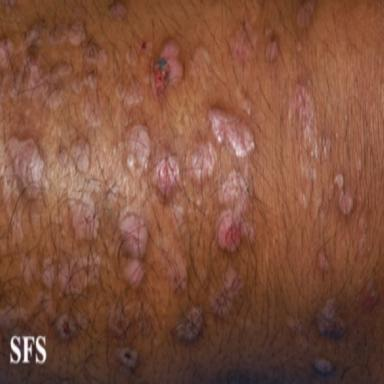Epidermolysis-Bullosa-Pruriginosa: (11, 24, 71, 110), (217, 170, 254, 251), (7, 137, 44, 199), (209, 109, 254, 157), (291, 84, 318, 157), (151, 40, 183, 97), (210, 266, 243, 319), (58, 256, 99, 294), (70, 194, 99, 239), (229, 21, 257, 66), (120, 214, 148, 258), (317, 299, 345, 339), (127, 125, 150, 170), (175, 307, 203, 342), (156, 155, 179, 197), (192, 142, 215, 181), (115, 80, 143, 110), (334, 174, 353, 215), (83, 90, 102, 128), (168, 255, 187, 292), (71, 138, 89, 173), (0, 307, 28, 329), (108, 306, 128, 336), (56, 314, 75, 340), (126, 259, 143, 287), (297, 0, 314, 28), (84, 44, 107, 64), (20, 256, 35, 286), (68, 23, 85, 47), (118, 348, 137, 369), (49, 24, 68, 45), (42, 258, 55, 288), (0, 39, 13, 68), (109, 3, 127, 19), (314, 359, 332, 375), (265, 40, 278, 61), (39, 292, 53, 310), (84, 72, 97, 90), (126, 47, 137, 66), (319, 251, 329, 271), (77, 312, 88, 330), (72, 77, 83, 93), (59, 149, 67, 165)
